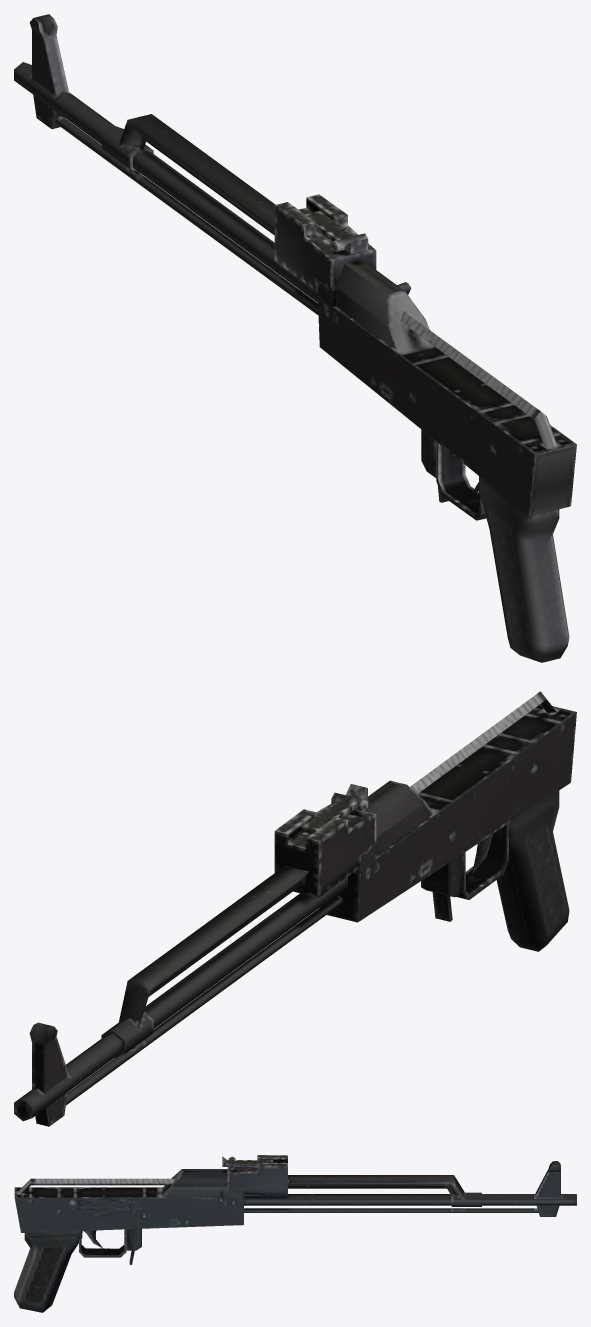
The model's file is AKM_NoCover.fbx.
3 renders of one model, top to bottom at view 1: azimuth 30°, elevation 25°; view 2: azimuth 150°, elevation 25°; view 3: azimuth 270°, elevation 25°, orthographic. The views are drawn at different scales.
Visible parts, largest first — view 1: AKM_Plastic_NoCover; view 2: AKM_Plastic_NoCover; view 3: AKM_Plastic_NoCover.
Part boxes in pixels (left/top/right/bottom): AKM_Plastic_NoCover: left=14, top=14, right=576, bottom=662; AKM_Plastic_NoCover: left=14, top=691, right=576, bottom=1126; AKM_Plastic_NoCover: left=14, top=1155, right=576, bottom=1312.
Bounding box in the file's own units: 0.035 × 0.4487 × 0.1337.
